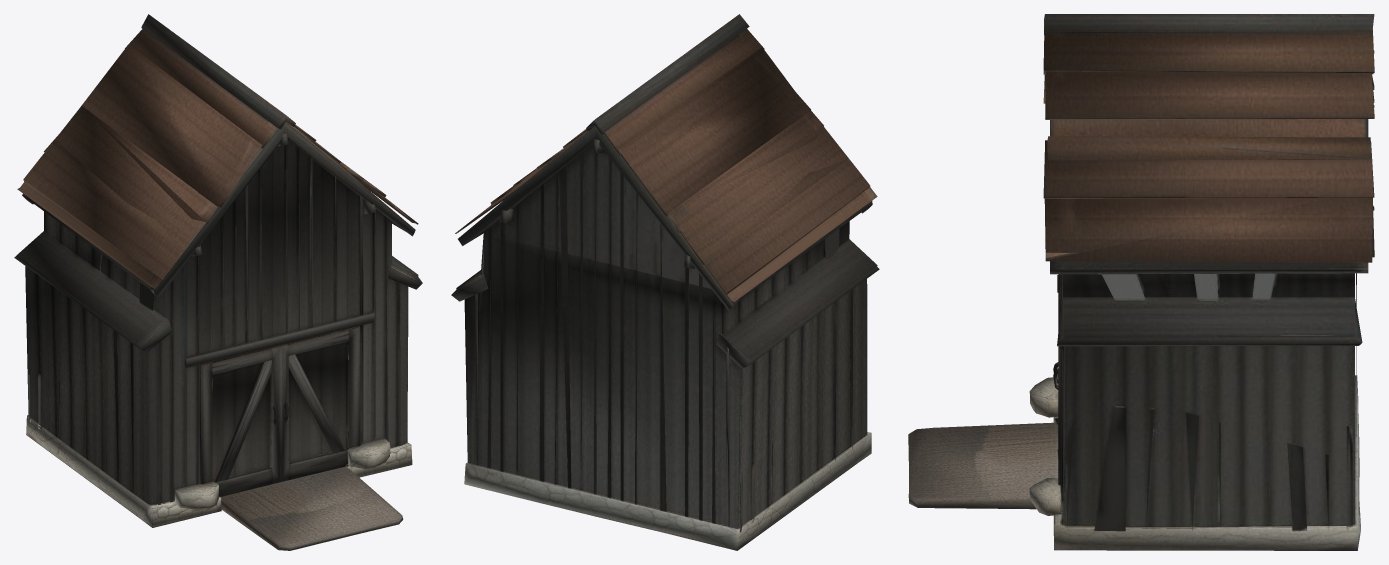
File: building-barn.glb
The picture shows the model from 3 angles, left to right: view 1: azimuth 30°, elevation 25°; view 2: azimuth 150°, elevation 25°; view 3: azimuth 270°, elevation 25°; orthographic projection. The views are drawn at different scales.
Size of the model in its own units: 0.73 by 0.9517 by 0.8735.
1 material, 1 textured.
